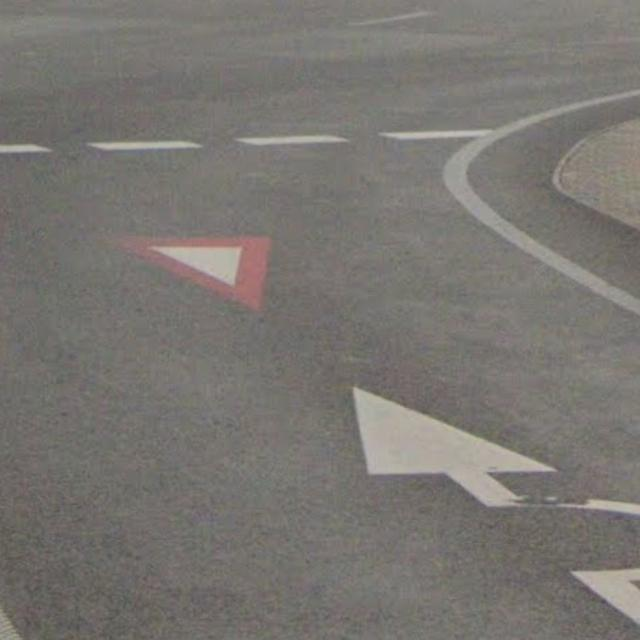prio_give_way: (113, 234, 271, 315)
